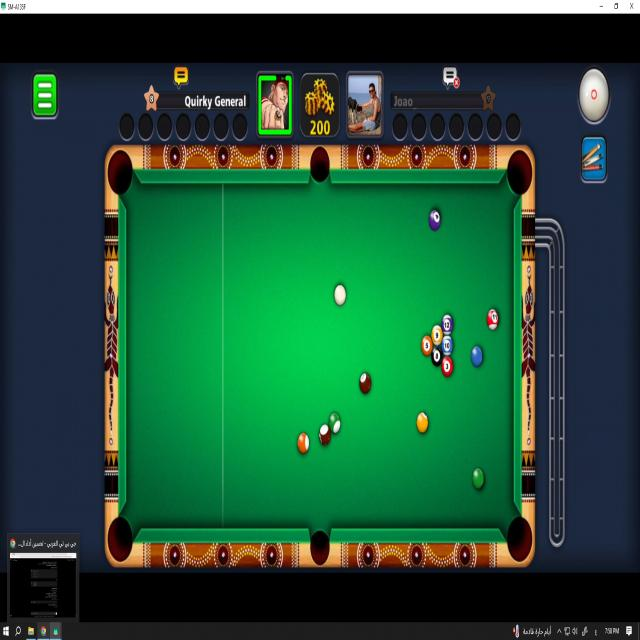object_ball: (416, 412, 428, 434), (329, 412, 341, 434), (472, 469, 484, 489), (441, 336, 453, 356), (360, 373, 371, 394), (429, 210, 440, 231), (487, 309, 498, 330), (421, 336, 432, 356), (471, 346, 482, 366), (298, 433, 309, 453), (431, 326, 442, 346), (441, 357, 452, 377), (431, 347, 442, 366), (442, 315, 452, 335), (320, 425, 330, 445)
white_cue_ball: (335, 284, 345, 305)
